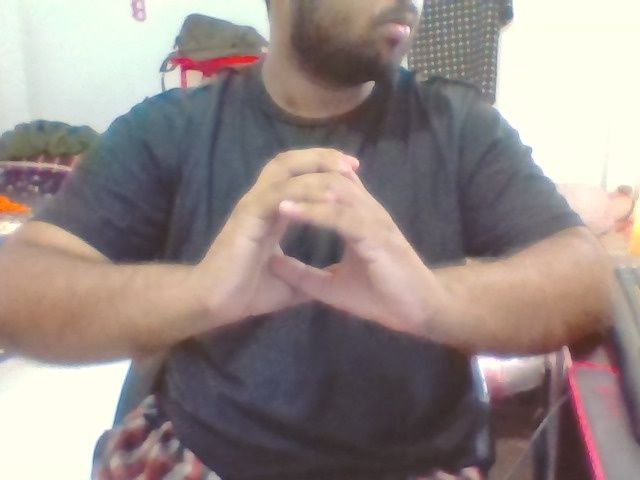O: (204, 135, 439, 343)
